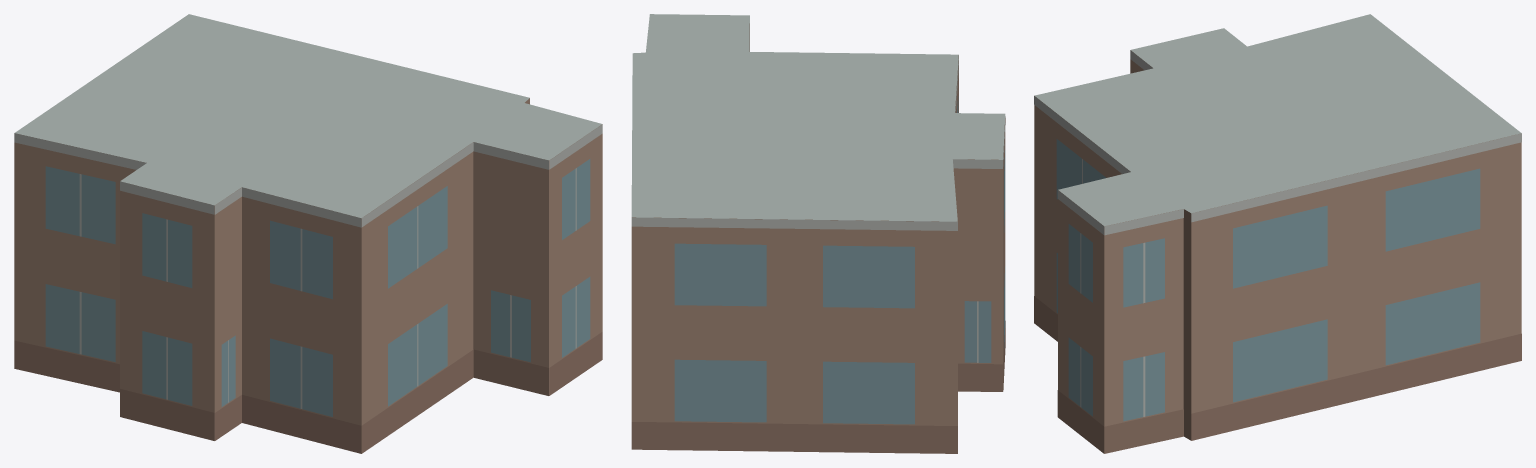
The model's file is survey-upis-32659192.glb.
3 renders of one model, left to right at view 1: azimuth 30°, elevation 25°; view 2: azimuth 150°, elevation 25°; view 3: azimuth 270°, elevation 25°, orthographic. The views are drawn at different scales.
Parts seen in each view (by area): view 1: survey-upis-32659192.tmp; view 2: survey-upis-32659192.tmp; view 3: survey-upis-32659192.tmp.
Boxes of the visible parts, box(x1,y1,x2,y2) form: survey-upis-32659192.tmp: box(14, 14, 602, 453); survey-upis-32659192.tmp: box(631, 14, 1005, 453); survey-upis-32659192.tmp: box(1034, 14, 1521, 453).
Bounding box in the file's own units: 12.21 × 6.1 × 11.85.
